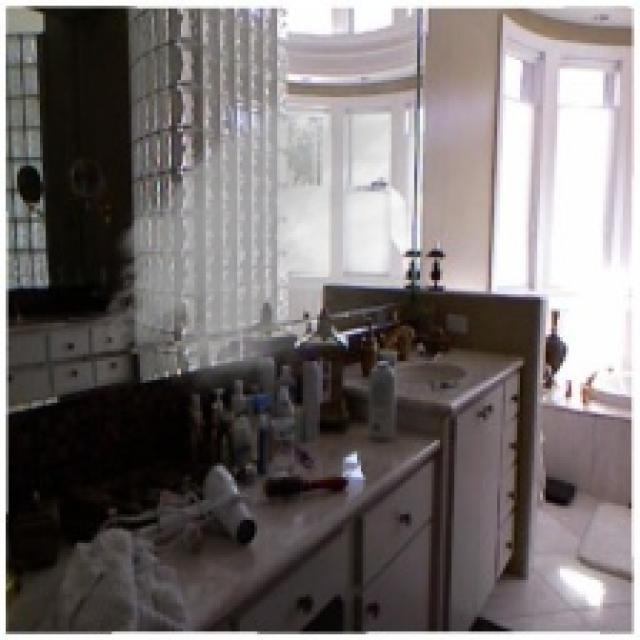Smoke: (91, 57, 486, 412)
